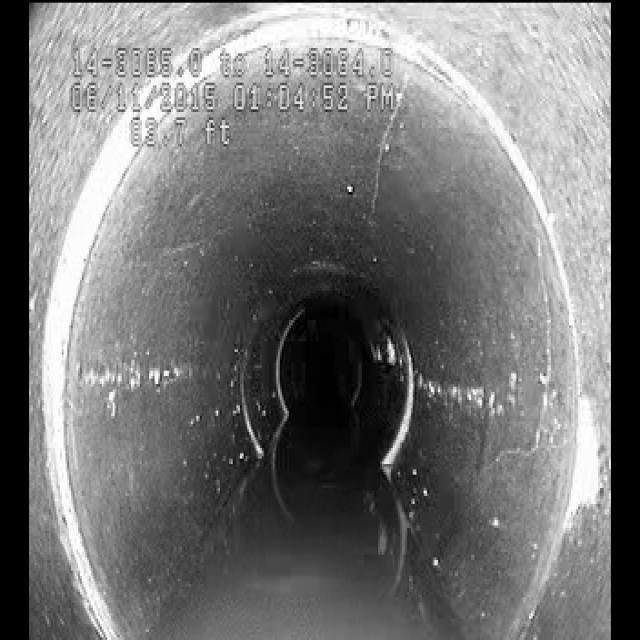Crack: (501, 222, 572, 484)
